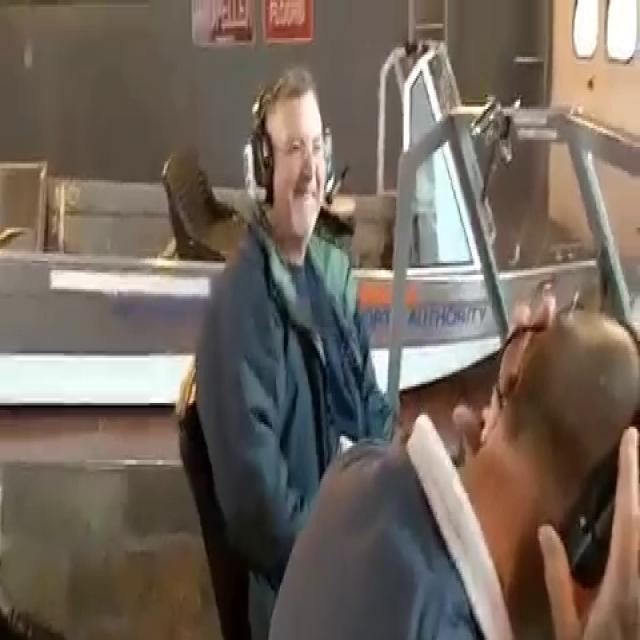earmuff: (240, 123, 276, 214), (323, 123, 336, 185)
